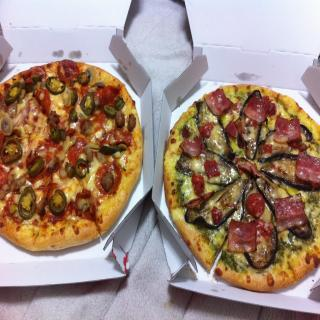Pizza: (163, 83, 320, 294), (0, 54, 149, 260)
